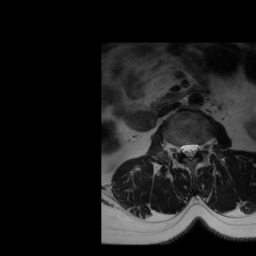CCS_normal: (186, 138, 193, 163)
LFS_normal: (199, 137, 205, 156)
LLS_normal: (193, 138, 199, 159)
RFS_normal: (174, 138, 180, 159)
RLS_normal: (180, 138, 186, 159)
